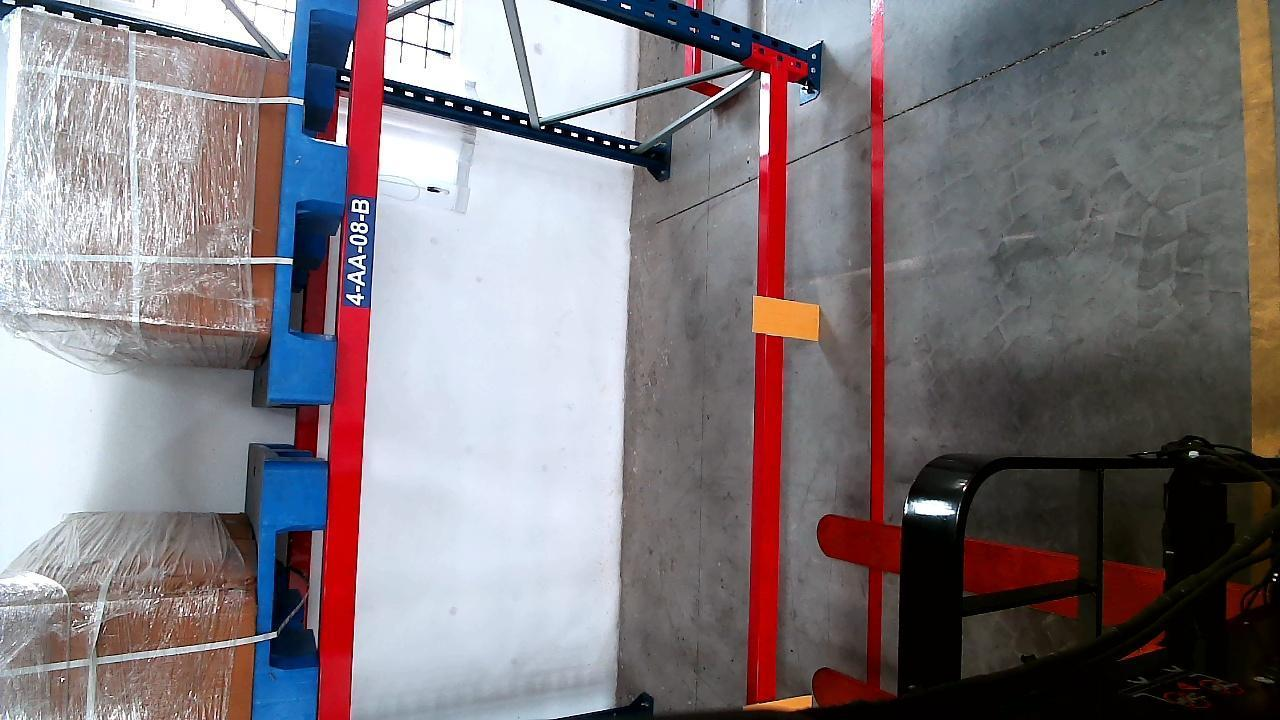h_rack: (751, 69, 792, 701)
orange_strip: (756, 295, 822, 339)
red_line: (866, 0, 892, 675)
small_pallet: (262, 1, 350, 404), (254, 464, 327, 717)
yellow_line: (1243, 0, 1278, 461)
